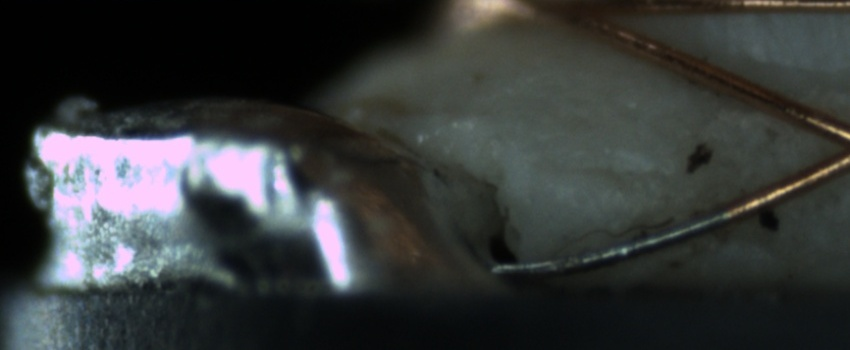CL: (799, 95, 849, 186)
DL: (527, 138, 679, 202)
TS: (494, 210, 732, 279)
